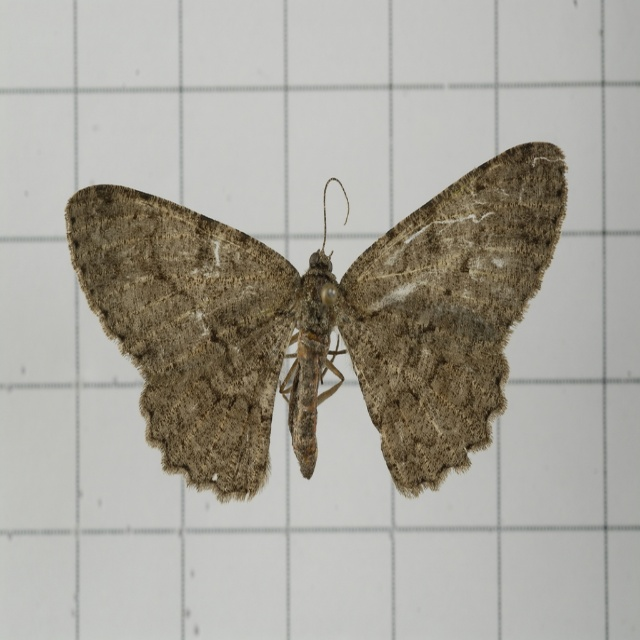Moths and butterflies: (62, 137, 568, 501)
